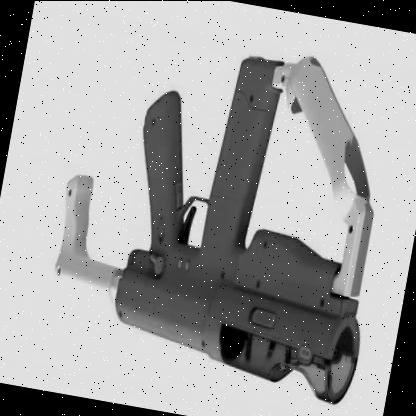rifle: (18, 35, 412, 416)
